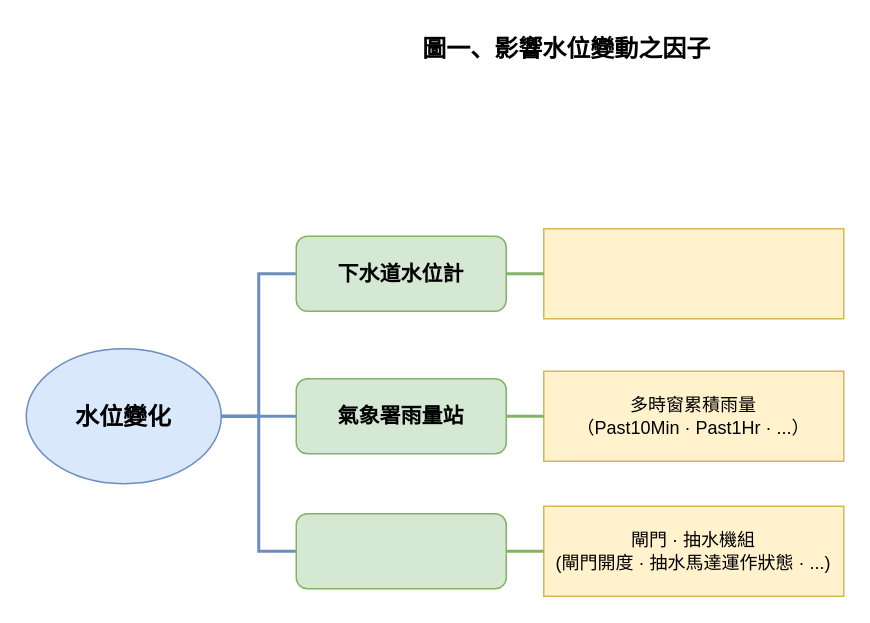
Image size: 870x623. Some labels were removed from this diagram. The centre of each missing label's shape, as x and y in pixels:
各測站水位 （時間戳 · 地點 · 水位值）: pixel 693 273
水利署水資源物聯網感測資料: pixel 400 550
